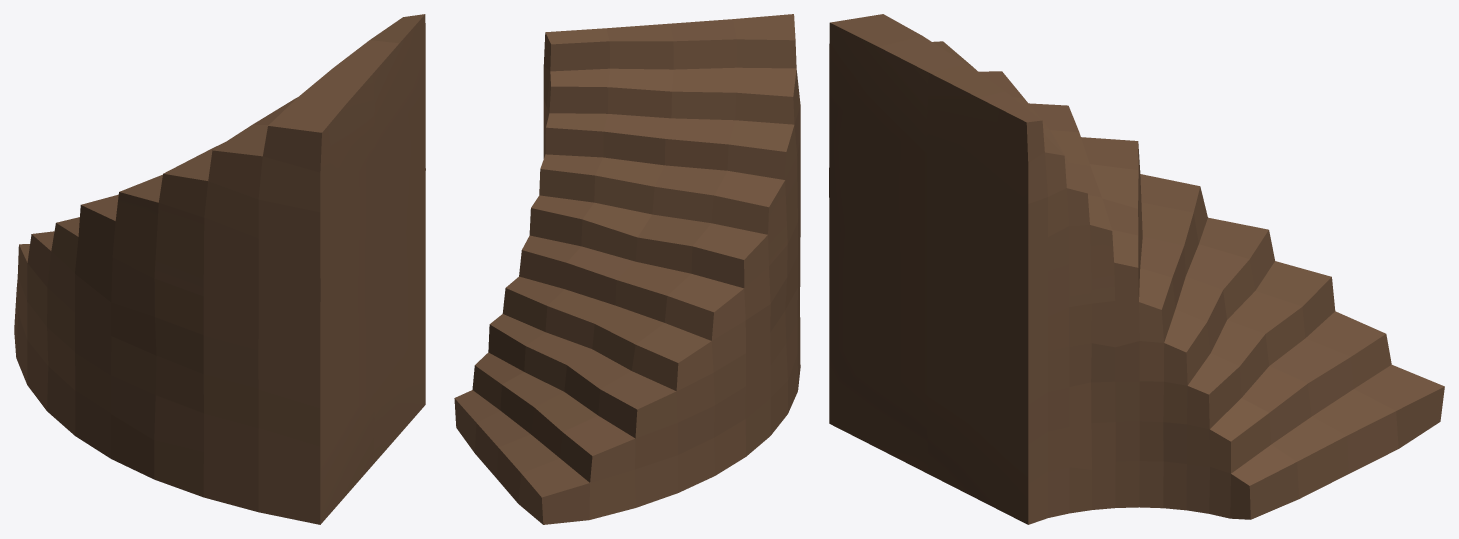
File: Stone_Stairs_Medium.fbx
3 renders of one model, left to right at view 1: azimuth 30°, elevation 25°; view 2: azimuth 150°, elevation 25°; view 3: azimuth 270°, elevation 25°, orthographic. The views are drawn at different scales.
Parts seen in each view (by area): view 1: Stone_Stairs_Medium; view 2: Stone_Stairs_Medium; view 3: Stone_Stairs_Medium.
Part boxes in pixels (x1=…): Stone_Stairs_Medium: x1=14, y1=14, x2=425, y2=524; Stone_Stairs_Medium: x1=454, y1=14, x2=800, y2=524; Stone_Stairs_Medium: x1=829, y1=14, x2=1444, y2=524.
Bounding box in the file's own units: 228 × 289 × 401.
